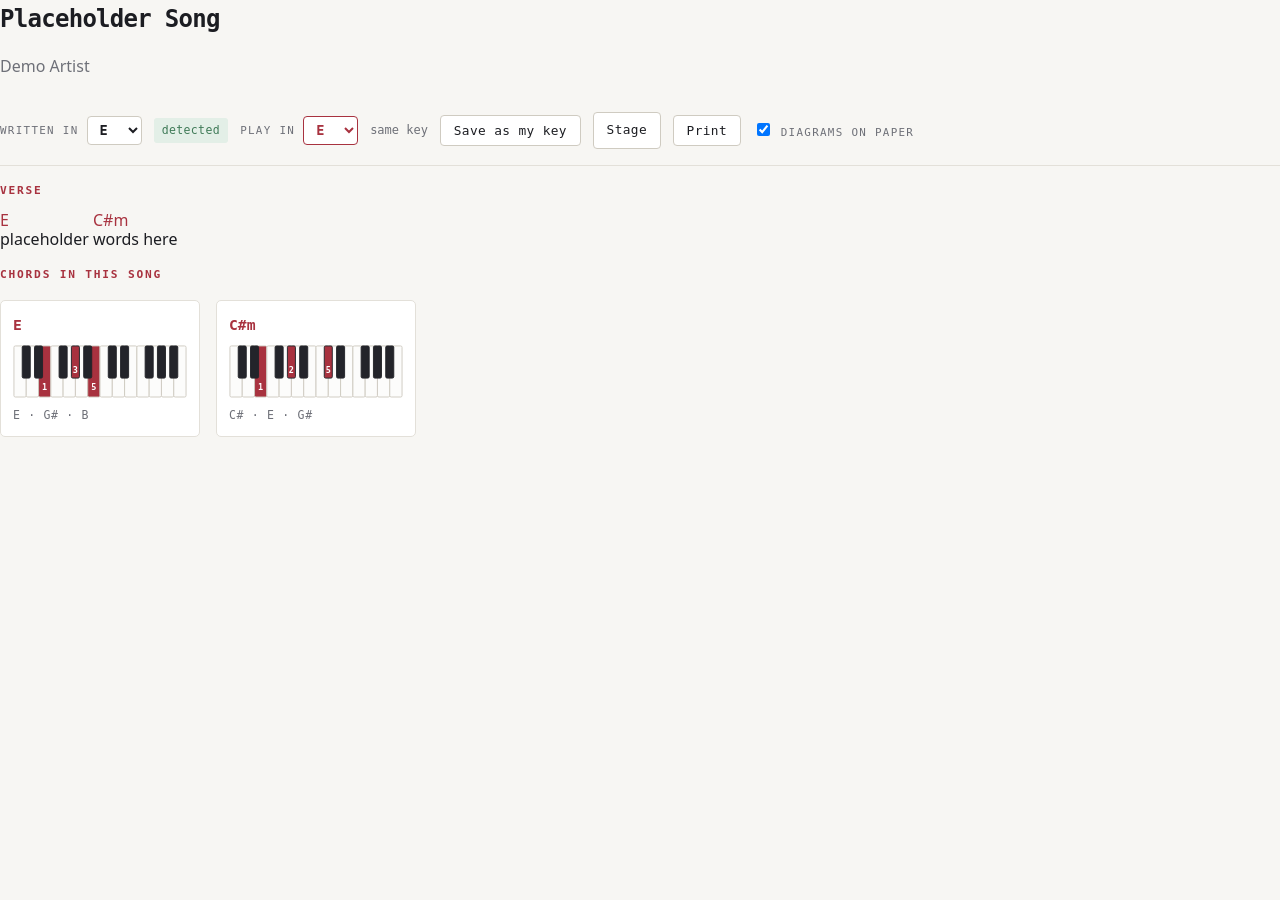
it: SongPage editing › closes the editor on cancel
The width and height of the screenshot is (1280, 900).
Expected: the heading "Placeholder Song" is shown, [0, 5, 220, 33]
Click the button "E".
click(46, 218)  # box [0, 208, 93, 229]
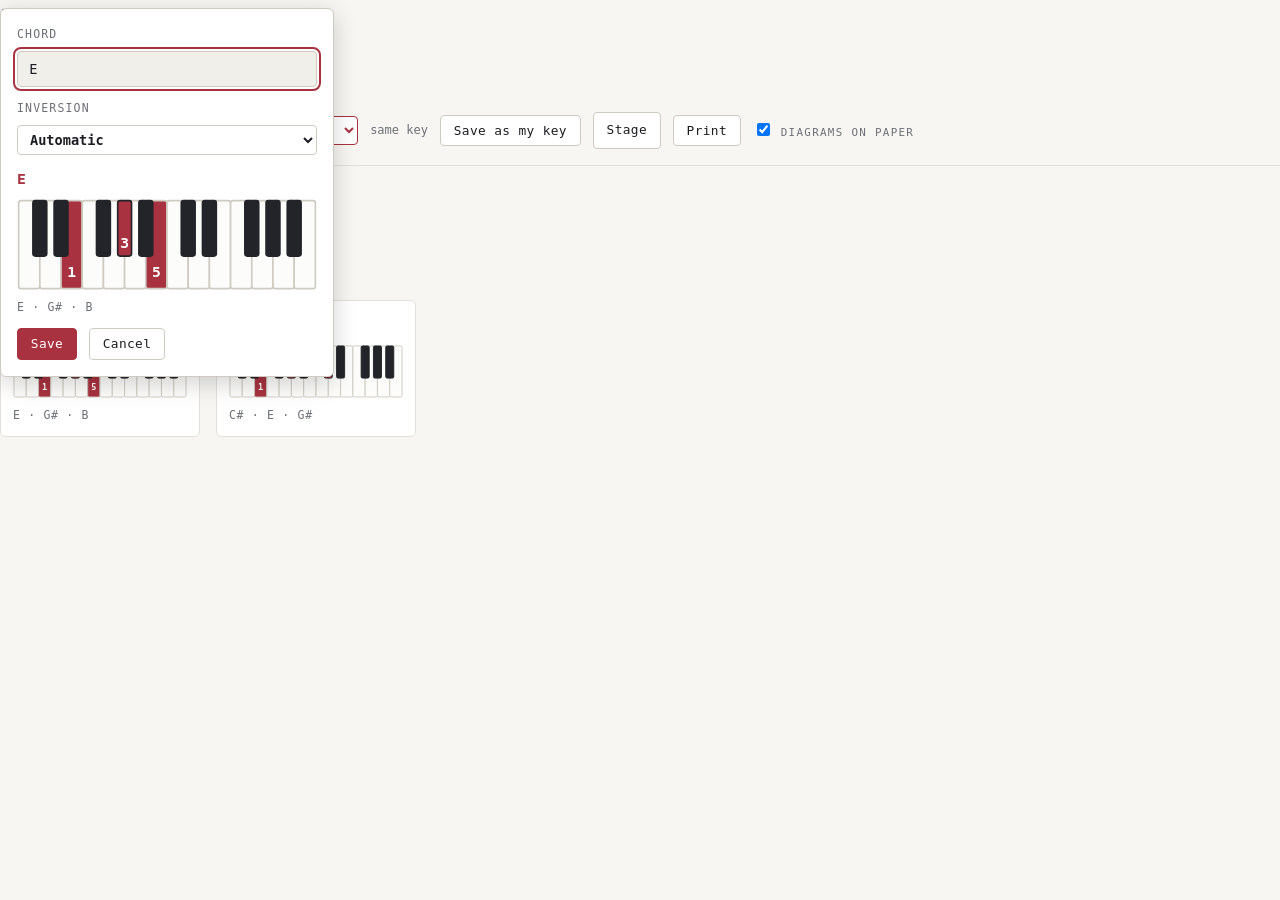
Click the button "Cancel".
click(127, 344)  # box [89, 328, 165, 360]
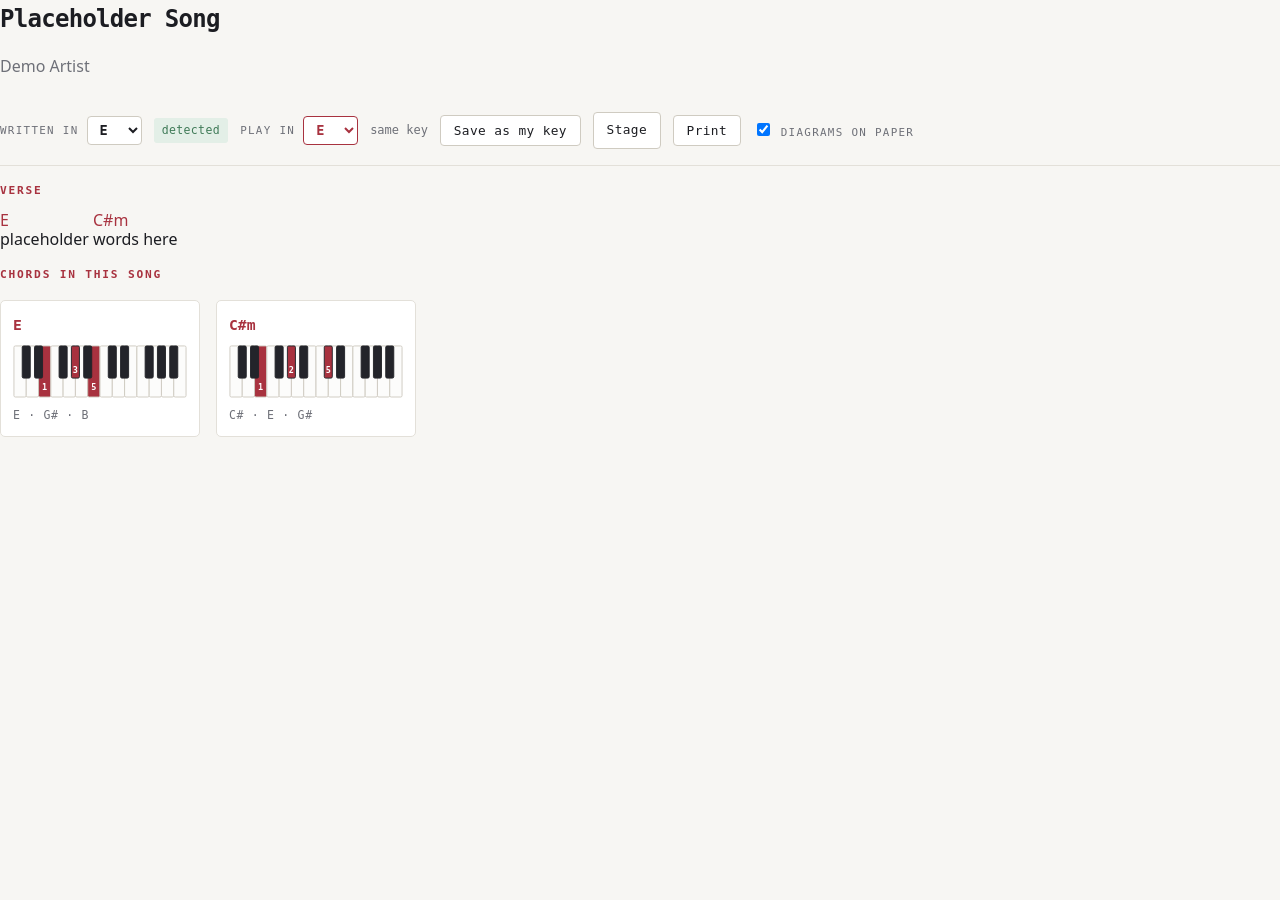
Result: the dialog is gone
